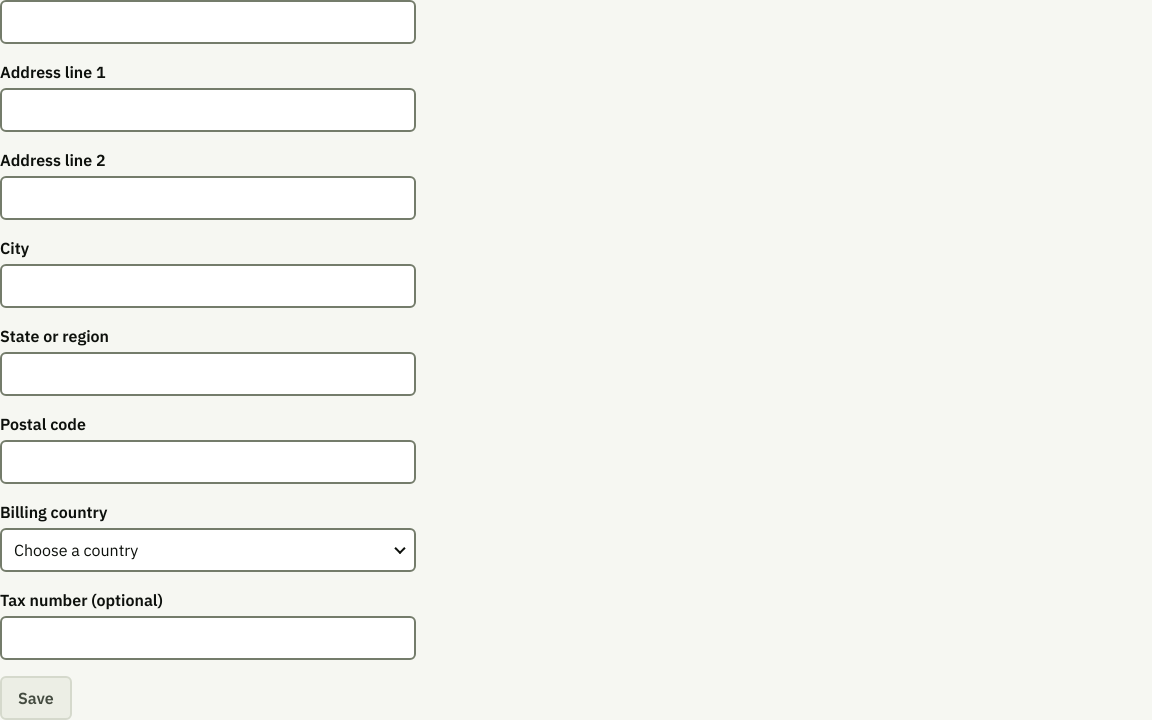
Test: billing details › shows what is missing next to the field
(page scrolled)
Step 1. Type "A1" into the field labelled "Tax number (optional)" → (208, 638), box [0,616,416,660]
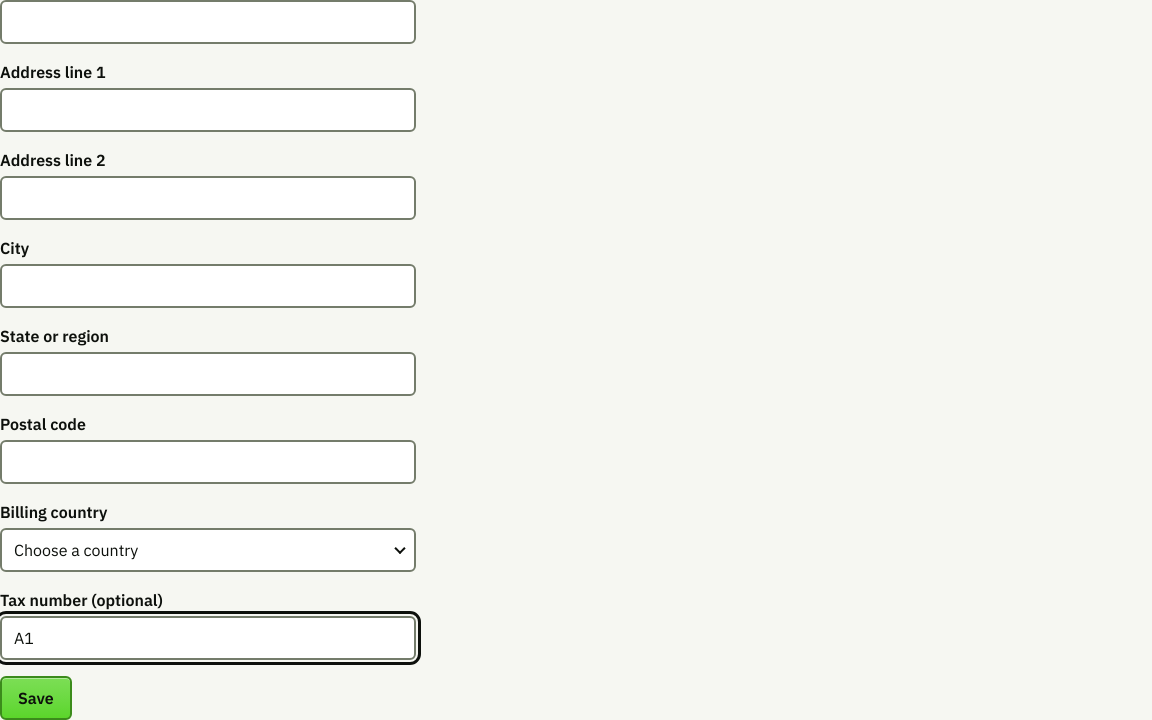
Step 2. Click the button "Save" → (36, 698), box [0,676,72,719]
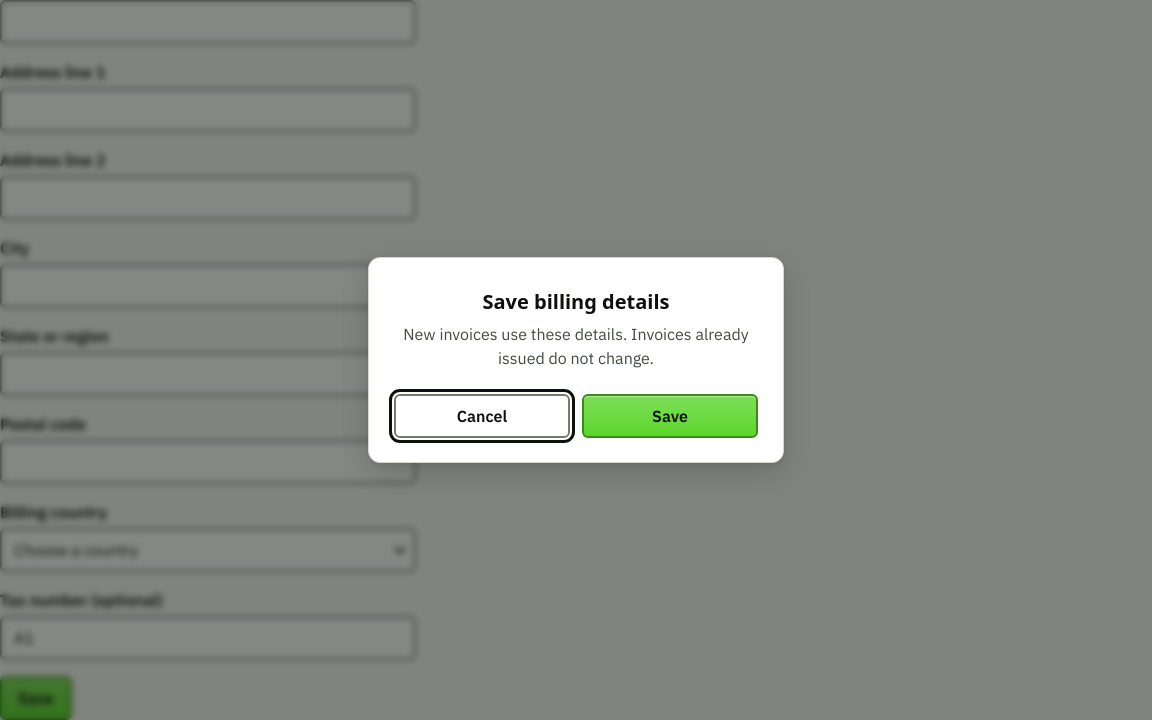
Step 3. Click the button "Save" → (670, 416), box [582,394,758,438]
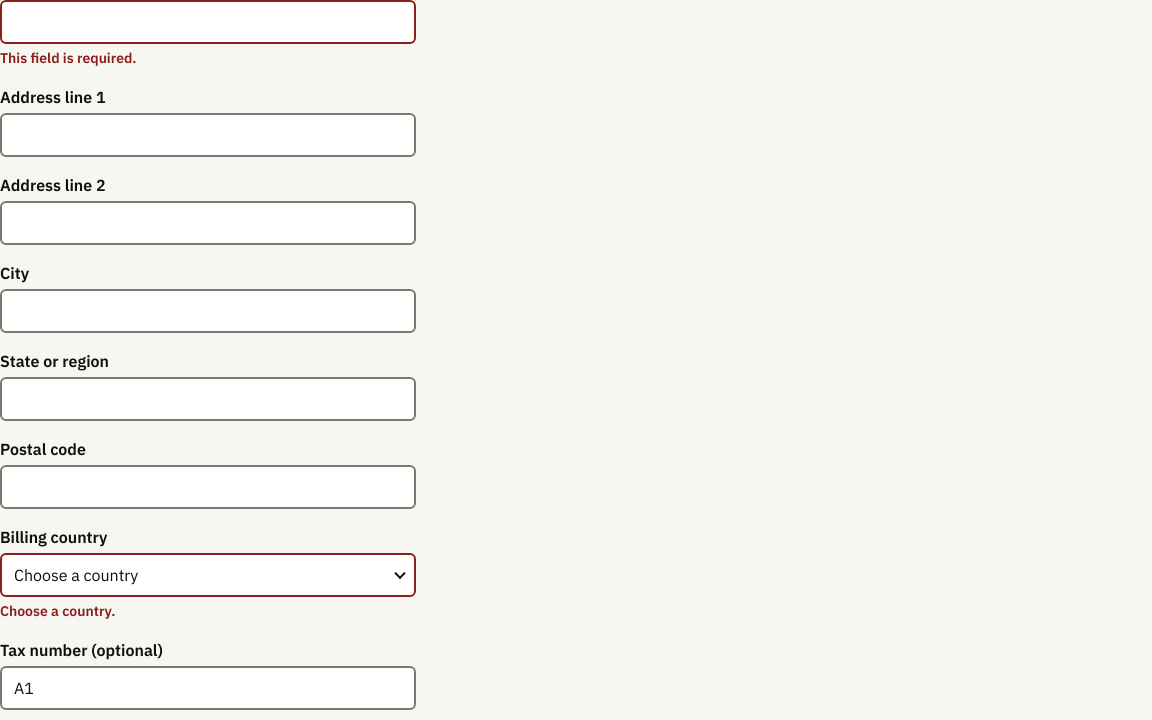
Result: the text "This field is required." is shown at [0,48,136,67]
Result: the text "Choose a country." is shown at [0,601,115,620]
